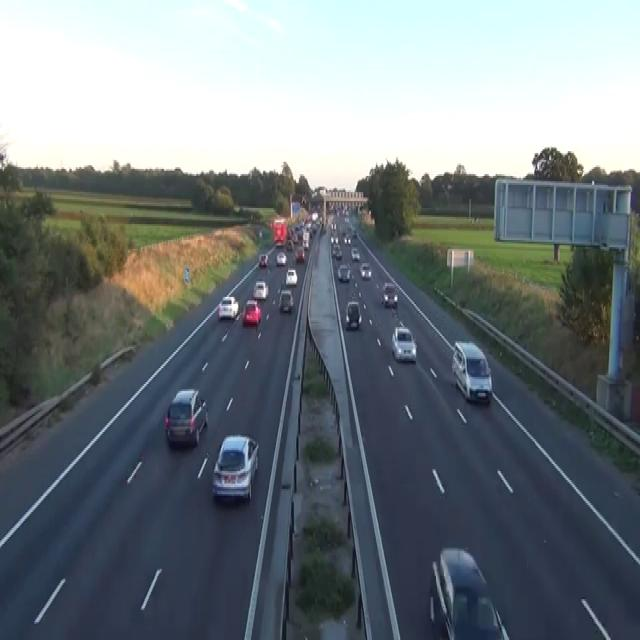Car: (428, 546, 510, 638), (211, 434, 259, 503), (451, 339, 492, 404), (164, 388, 208, 446), (391, 325, 416, 363), (218, 295, 238, 320), (242, 299, 261, 325), (380, 281, 398, 307), (345, 300, 361, 329), (279, 288, 293, 313), (252, 279, 268, 299), (337, 263, 350, 281), (359, 261, 371, 279), (285, 268, 297, 284), (275, 250, 286, 266), (294, 246, 304, 262), (331, 246, 342, 260), (258, 252, 268, 266), (350, 247, 360, 260), (330, 235, 339, 245), (275, 237, 284, 247), (302, 236, 308, 249), (343, 234, 351, 243), (286, 240, 292, 251), (311, 212, 318, 220), (344, 215, 349, 224), (331, 222, 336, 231), (351, 228, 356, 236), (259, 228, 262, 236)
Truck: (272, 217, 287, 245)
